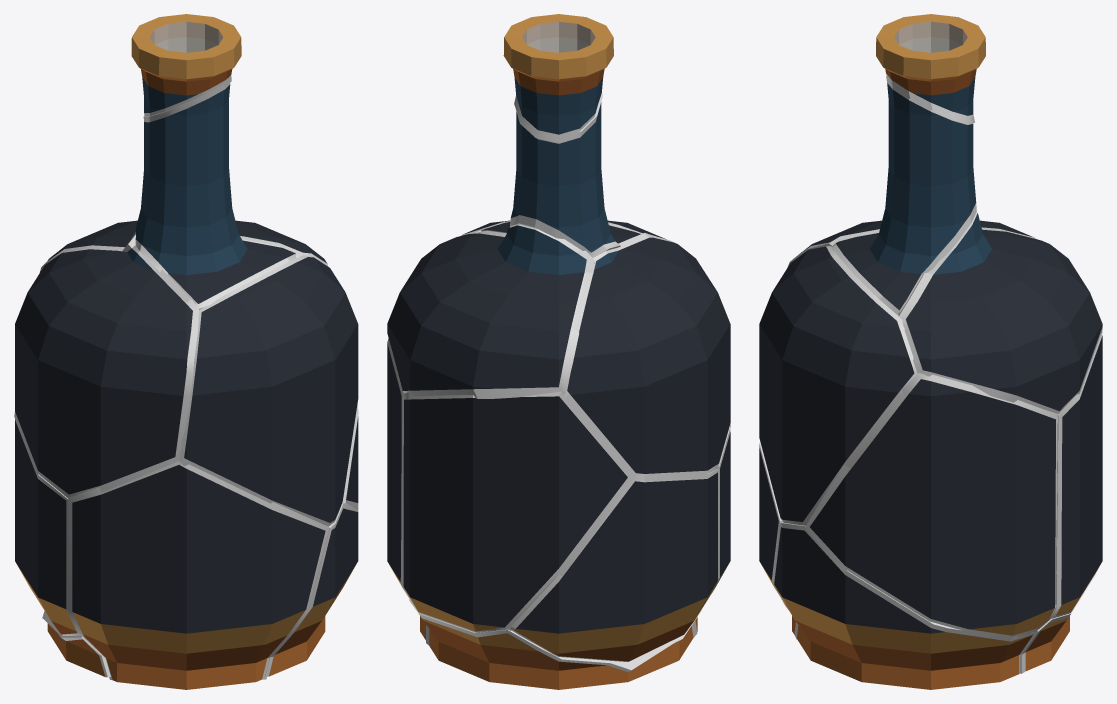
File: v11_flowers.fbx
3 views of the same model, side by side, from view 1: azimuth 30°, elevation 25°; view 2: azimuth 150°, elevation 25°; view 3: azimuth 270°, elevation 25° (orthographic).
Visible parts, largest first — view 1: shard9, shard10, shard7, shard3, shard2, shard11, shard8, gold9, gold10, shard5, gold7, gold3 (+4 smaller); view 2: shard4, shard10, shard5, shard11, shard2, shard3, shard1, shard6, gold4, gold5, gold10, gold1 (+4 smaller); view 3: shard6, shard7, shard5, shard8, shard3, shard4, shard2, gold6, gold7, gold5, shard9, gold4 (+5 smaller).
Boxes of the visible parts, left/top/right/bottom form: shard9: left=72, top=465, right=325, bottom=689; shard10: left=15, top=248, right=192, bottom=494; shard7: left=184, top=257, right=358, bottom=522; shard3: left=135, top=85, right=295, bottom=303; shard2: left=131, top=14, right=241, bottom=112; shard11: left=15, top=420, right=77, bottom=634; shard8: left=269, top=508, right=358, bottom=676; gold9: left=67, top=461, right=329, bottom=680; gold10: left=14, top=245, right=198, bottom=498; shard5: left=48, top=220, right=327, bottom=263; gold7: left=179, top=255, right=341, bottom=526; gold3: left=135, top=83, right=295, bottom=309; shard4: left=403, top=396, right=627, bottom=631; shard10: left=567, top=237, right=730, bottom=473; shard5: left=387, top=225, right=586, bottom=390; shard11: left=514, top=472, right=717, bottom=661; shard2: left=503, top=14, right=613, bottom=134; shard3: left=481, top=103, right=640, bottom=252; shard1: left=422, top=618, right=693, bottom=689; shard6: left=387, top=343, right=408, bottom=596; gold4: left=400, top=391, right=633, bottom=633; gold5: left=388, top=224, right=594, bottom=398; gold10: left=564, top=233, right=730, bottom=480; gold1: left=409, top=598, right=701, bottom=672; shard6: left=810, top=379, right=1055, bottom=635; shard7: left=759, top=246, right=914, bottom=521; shard5: left=906, top=213, right=1102, bottom=410; shard8: left=774, top=527, right=1032, bottom=689; shard3: left=836, top=83, right=976, bottom=310; shard4: left=1056, top=336, right=1102, bottom=615; shard2: left=876, top=14, right=985, bottom=115; gold6: left=805, top=372, right=1058, bottom=640; gold7: left=781, top=246, right=917, bottom=525; gold5: left=898, top=212, right=1102, bottom=413; shard9: left=759, top=448, right=795, bottom=634; gold4: left=1051, top=333, right=1102, bottom=618.
Bounding box in the file's own units: 9.02 × 17.24 × 8.99.
